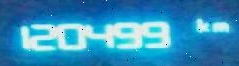0: (55, 21, 82, 50)
1: (15, 23, 28, 52)
2: (29, 21, 55, 52)
4: (82, 21, 115, 49)
9: (140, 21, 169, 48), (115, 20, 140, 48)
X: (193, 16, 209, 32), (210, 20, 230, 32)
